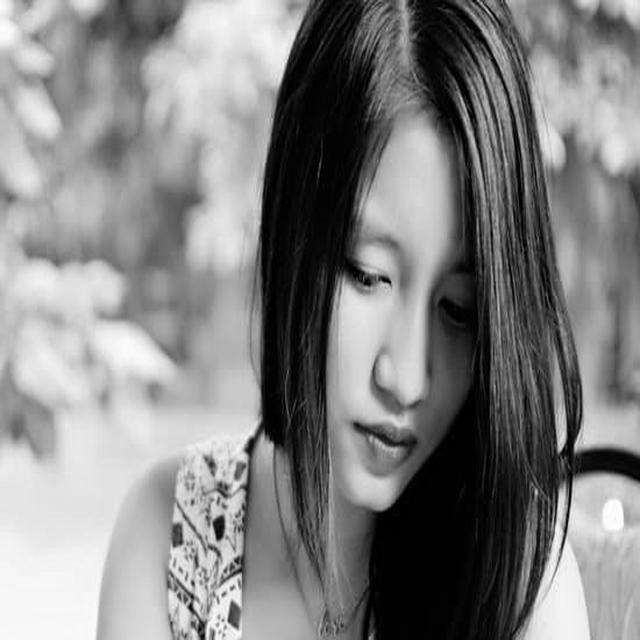Sadness: (324, 110, 486, 510)
